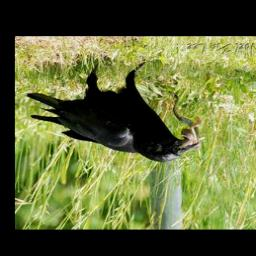Crow: (29, 61, 202, 163)
